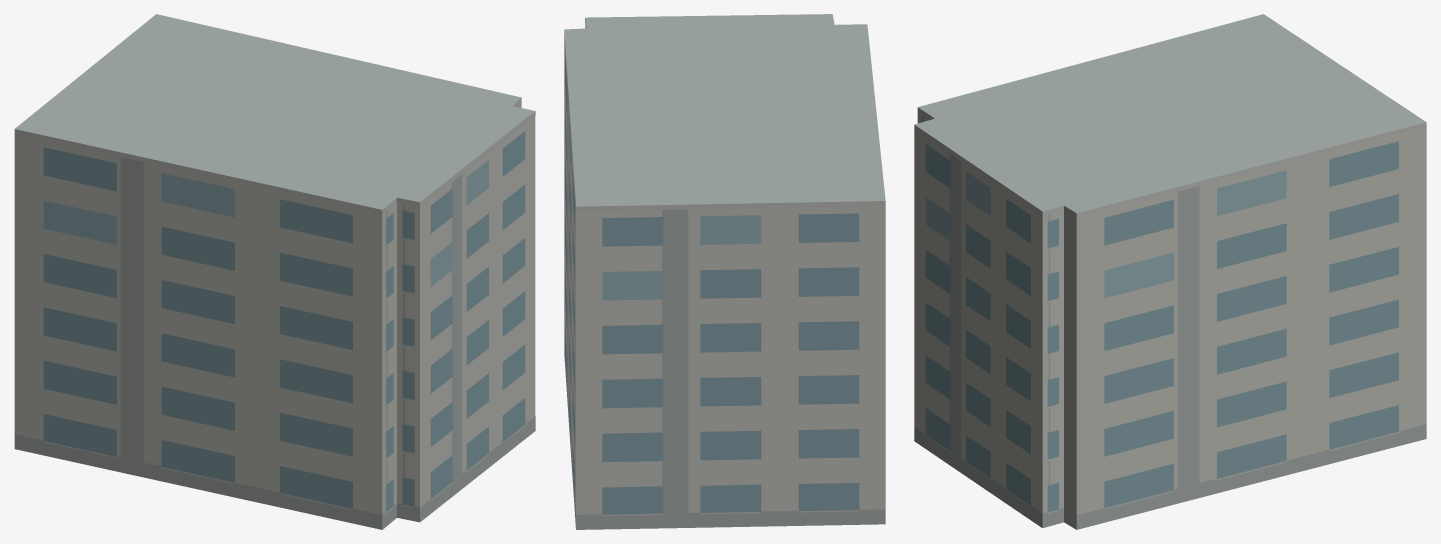
The model's file is survey-upis-32849182.glb.
The picture shows the model from 3 angles, left to right: view 1: azimuth 30°, elevation 25°; view 2: azimuth 150°, elevation 25°; view 3: azimuth 270°, elevation 25°; orthographic projection. The views are drawn at different scales.
Visible parts, largest first — view 1: survey-upis-32849182.tmp; view 2: survey-upis-32849182.tmp; view 3: survey-upis-32849182.tmp.
Part boxes in pixels (bbox=[...]): survey-upis-32849182.tmp: bbox=[14, 14, 535, 529]; survey-upis-32849182.tmp: bbox=[564, 14, 885, 529]; survey-upis-32849182.tmp: bbox=[914, 14, 1426, 529].
Bounding box in the file's own units: 22.14 × 16.4 × 24.05.
